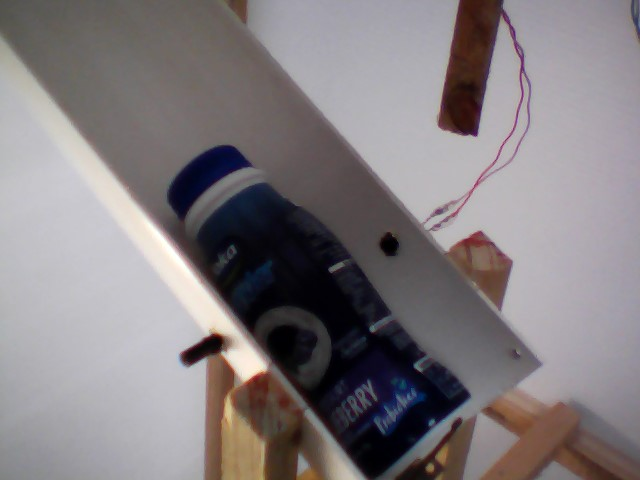plastico: (156, 141, 486, 479)
